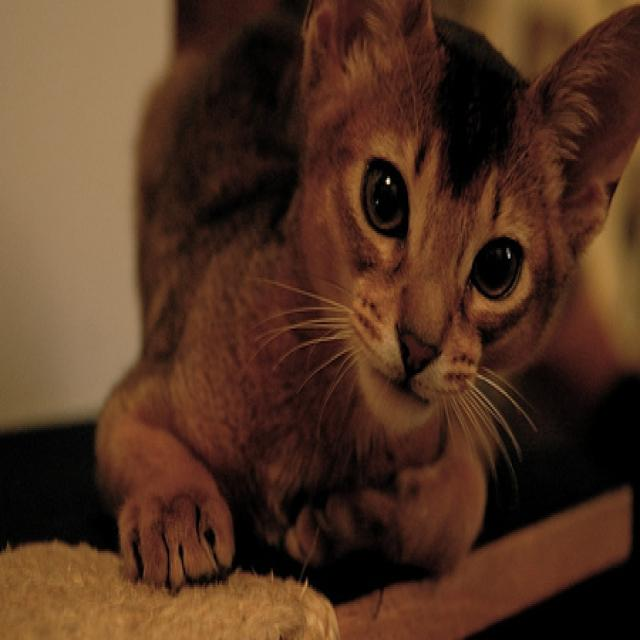Abyssinian: (91, 0, 640, 591)
